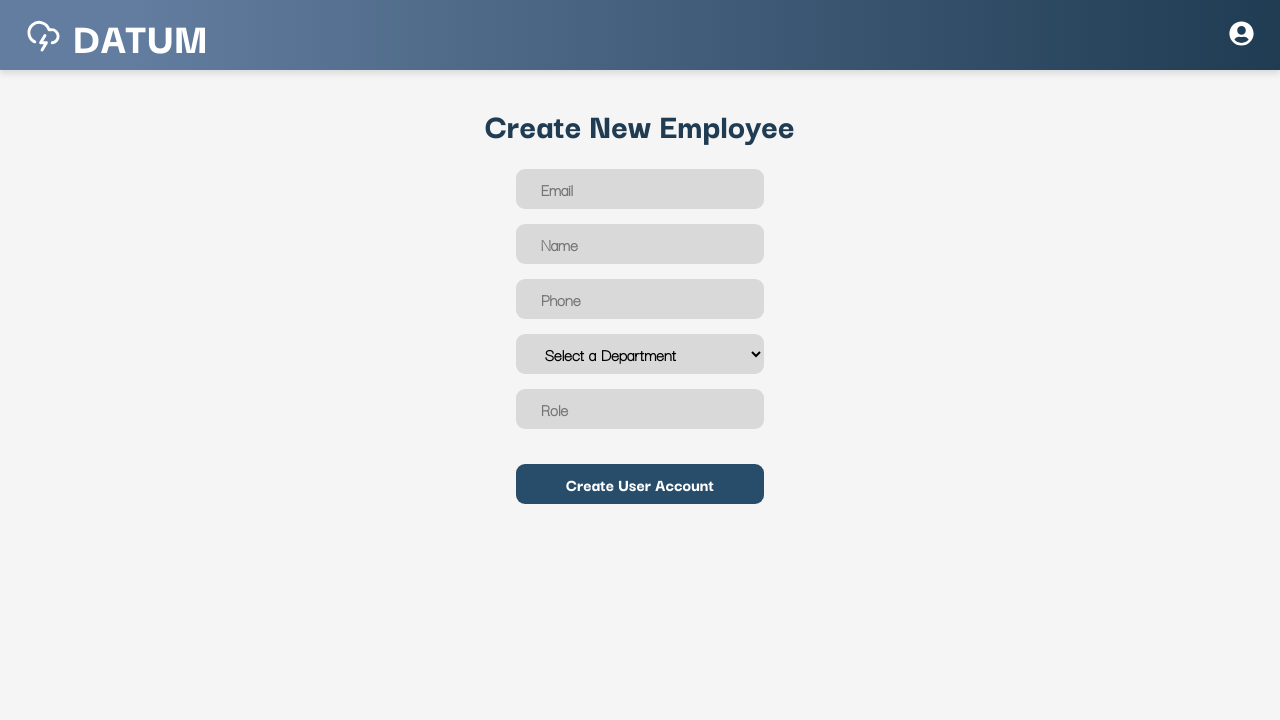
Test: createUser Page › should display an error message if account creation fails
Type "test@example.com" into the field with placeholder "Email" at (640,189), box [516,169,764,209]
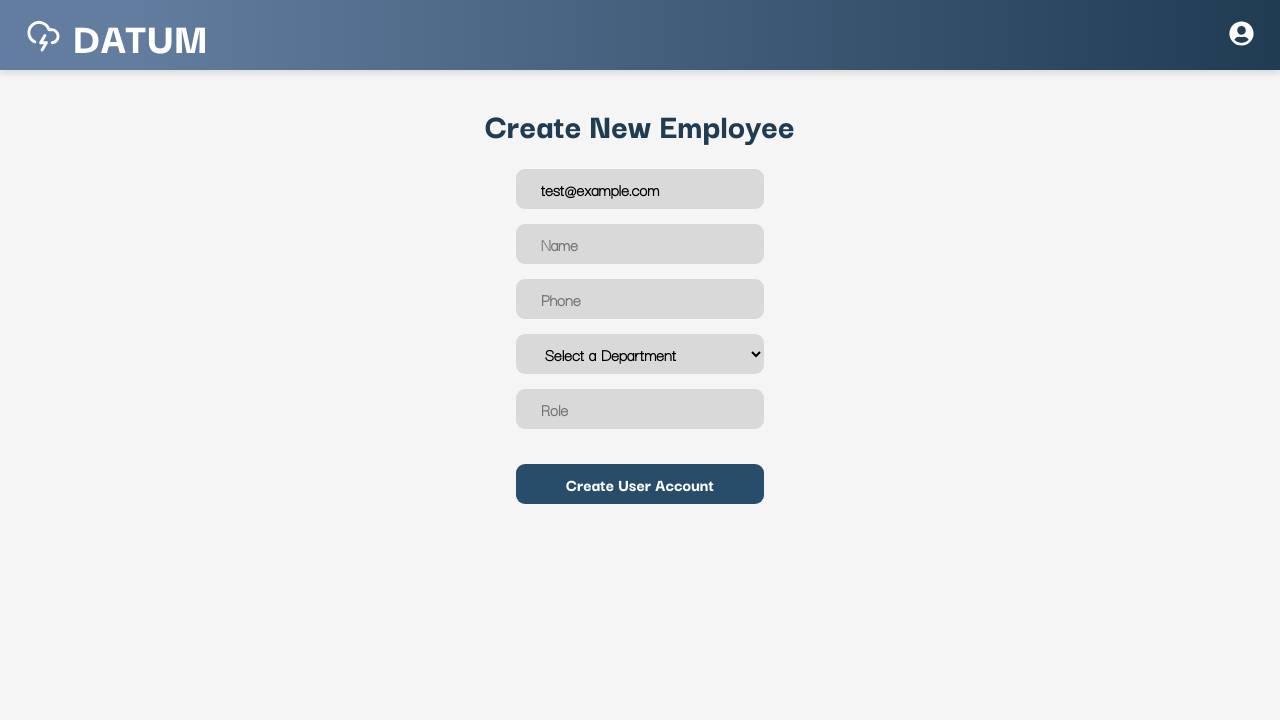
Type "Test User" into the field with placeholder "Name" at (640,244), box [516,224,764,264]
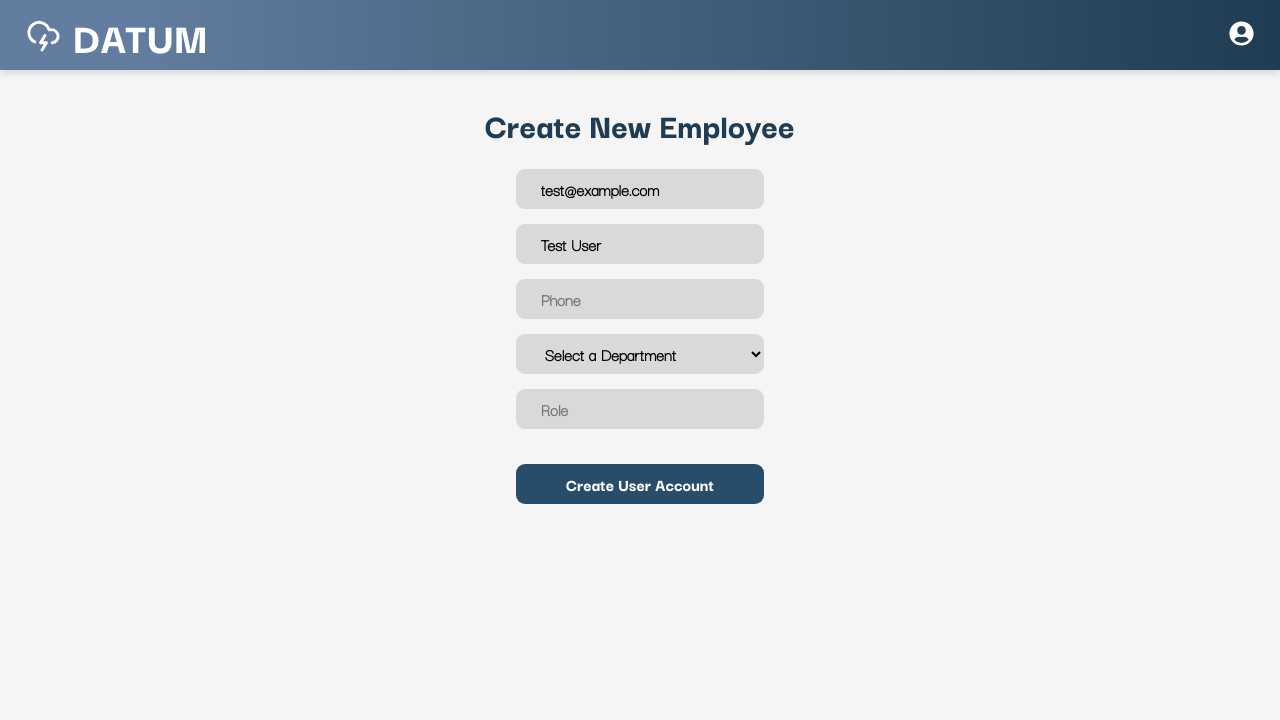
Click the button "Create User Account" at (640,484), box [516,464,764,504]
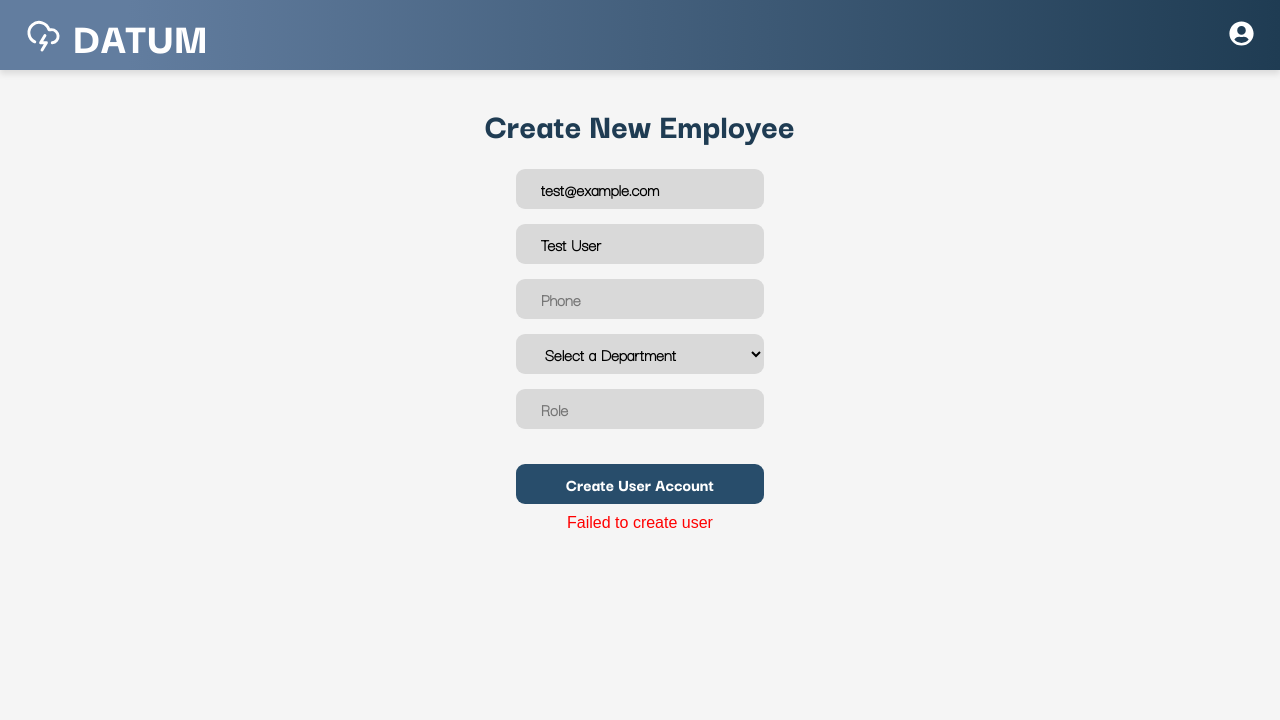
expect the text "Failed to create user" is shown: met, box [567,514,713,532]
